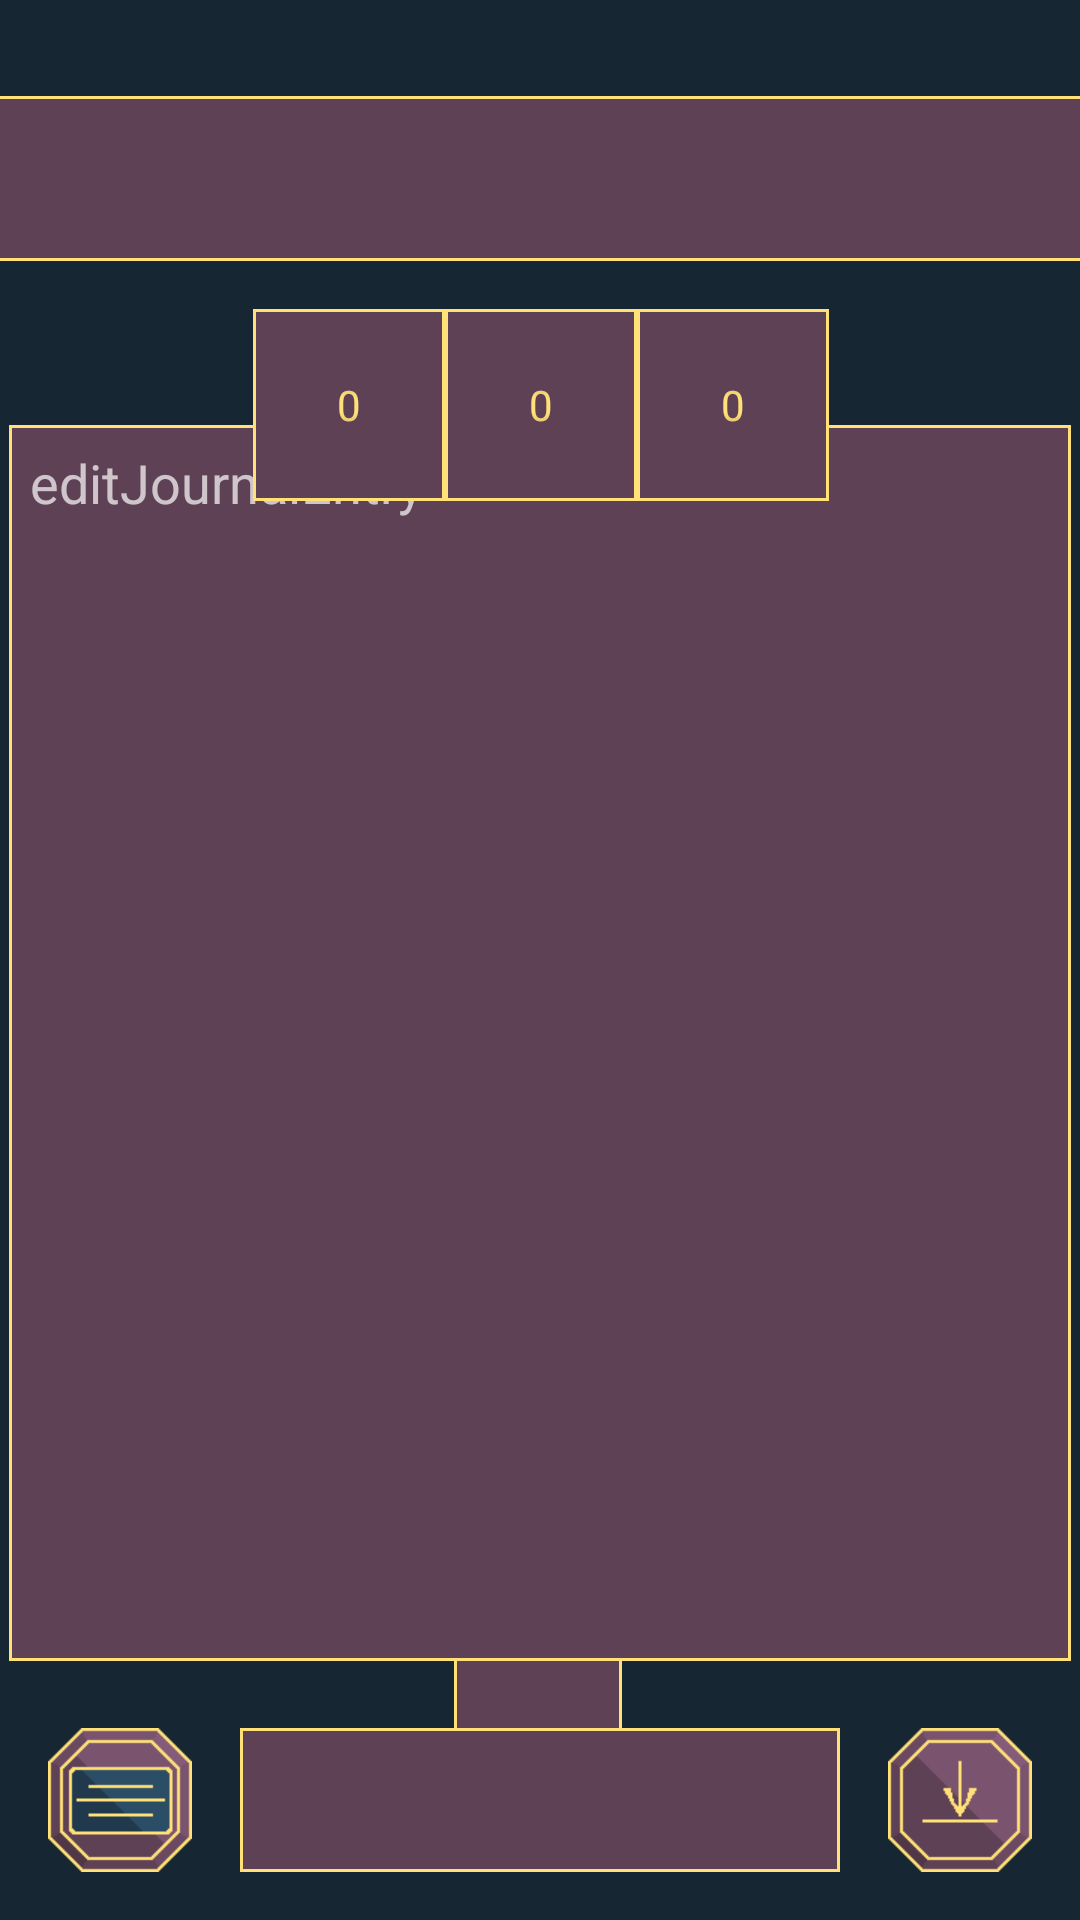

Point at icon controls on the screen. Image size 1080x1920, points as (x,y).
save: (960,1800)
